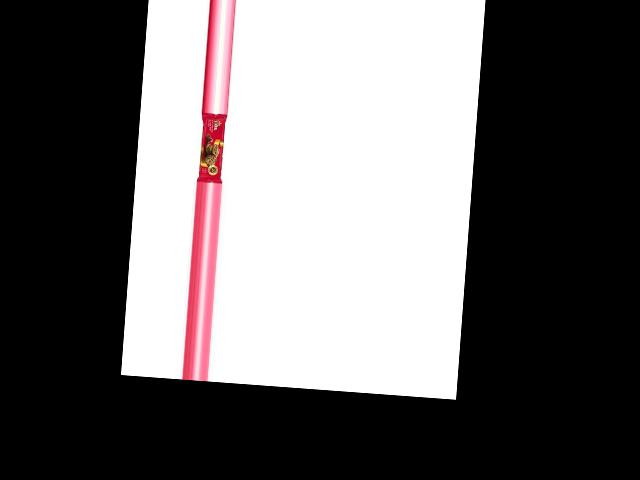chocolate: (194, 111, 226, 182)
